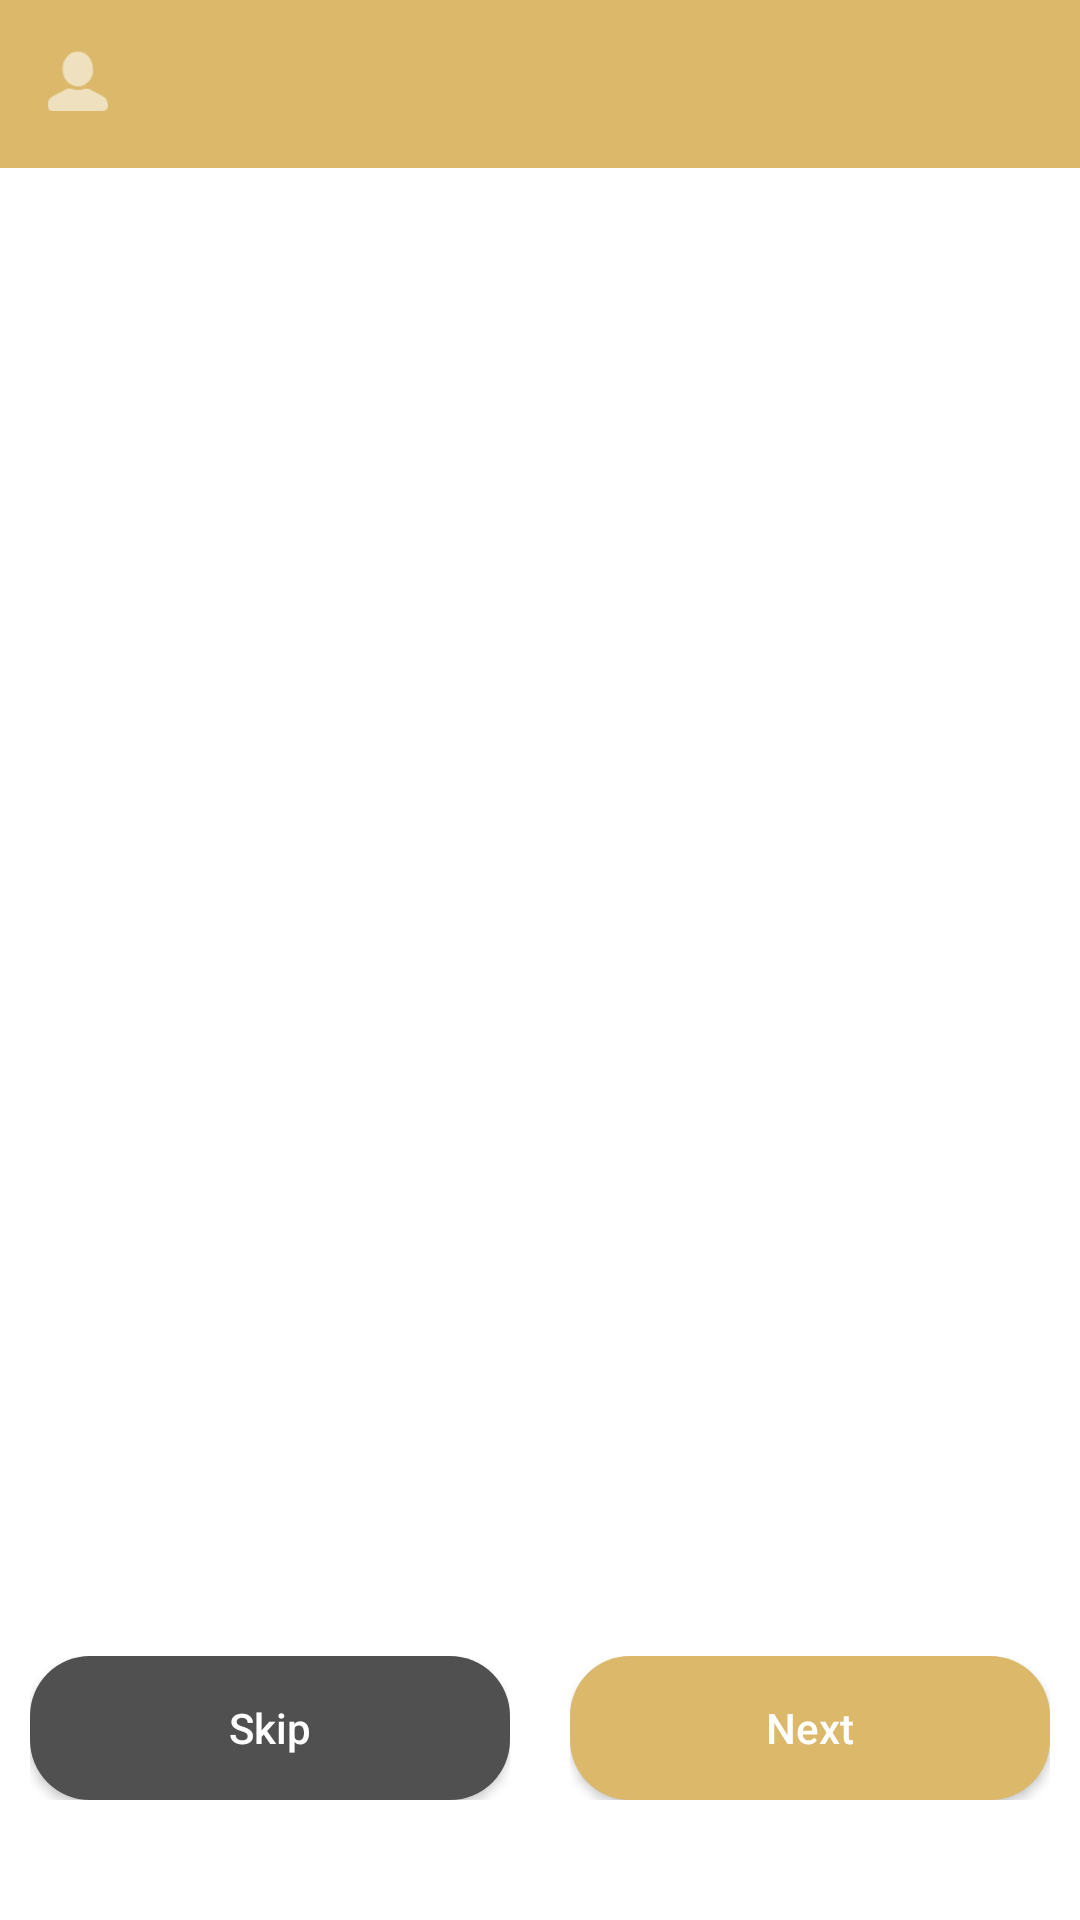

Where to tap for icons on this 1080x1920 app screen, as point (x, y):
profile: point (78, 81)
